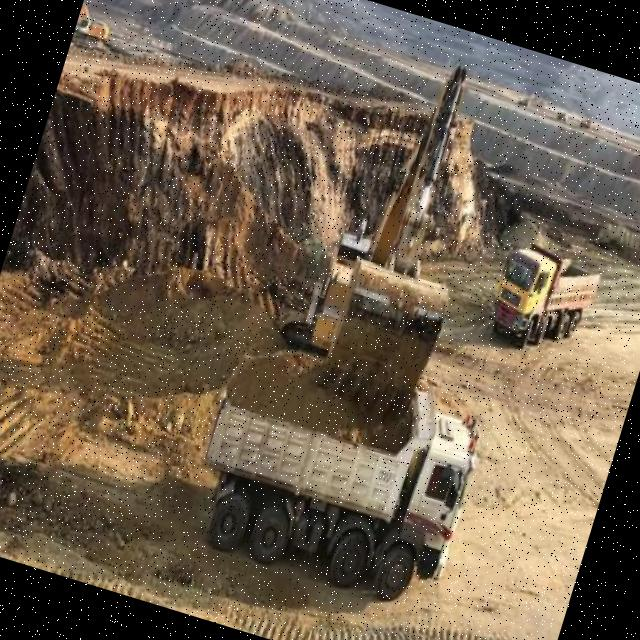Dump Truck: (176, 326, 494, 614), (482, 232, 606, 362)
Excavator: (260, 33, 518, 426), (70, 0, 118, 52)
